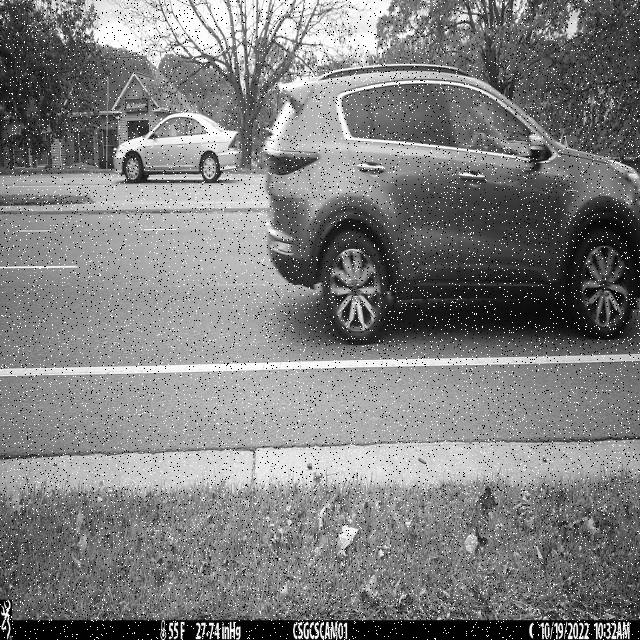SUV: (263, 64, 640, 347)
